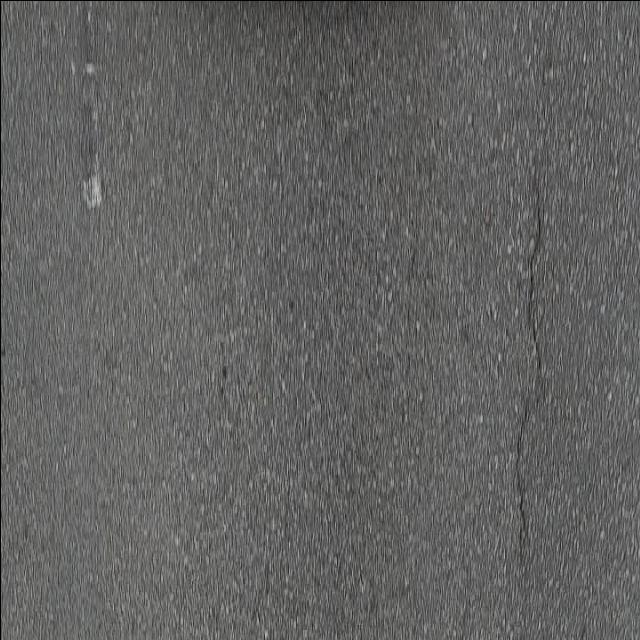cracks: (467, 1, 573, 640)
